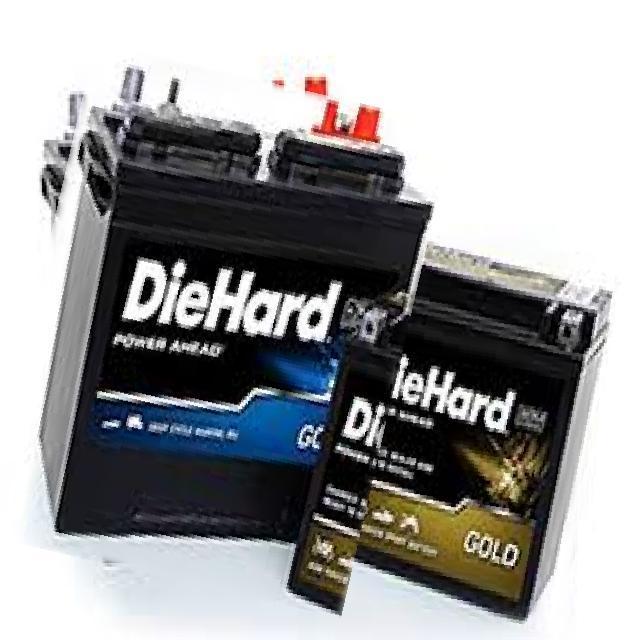Battery: (31, 57, 434, 553), (282, 227, 618, 624)
